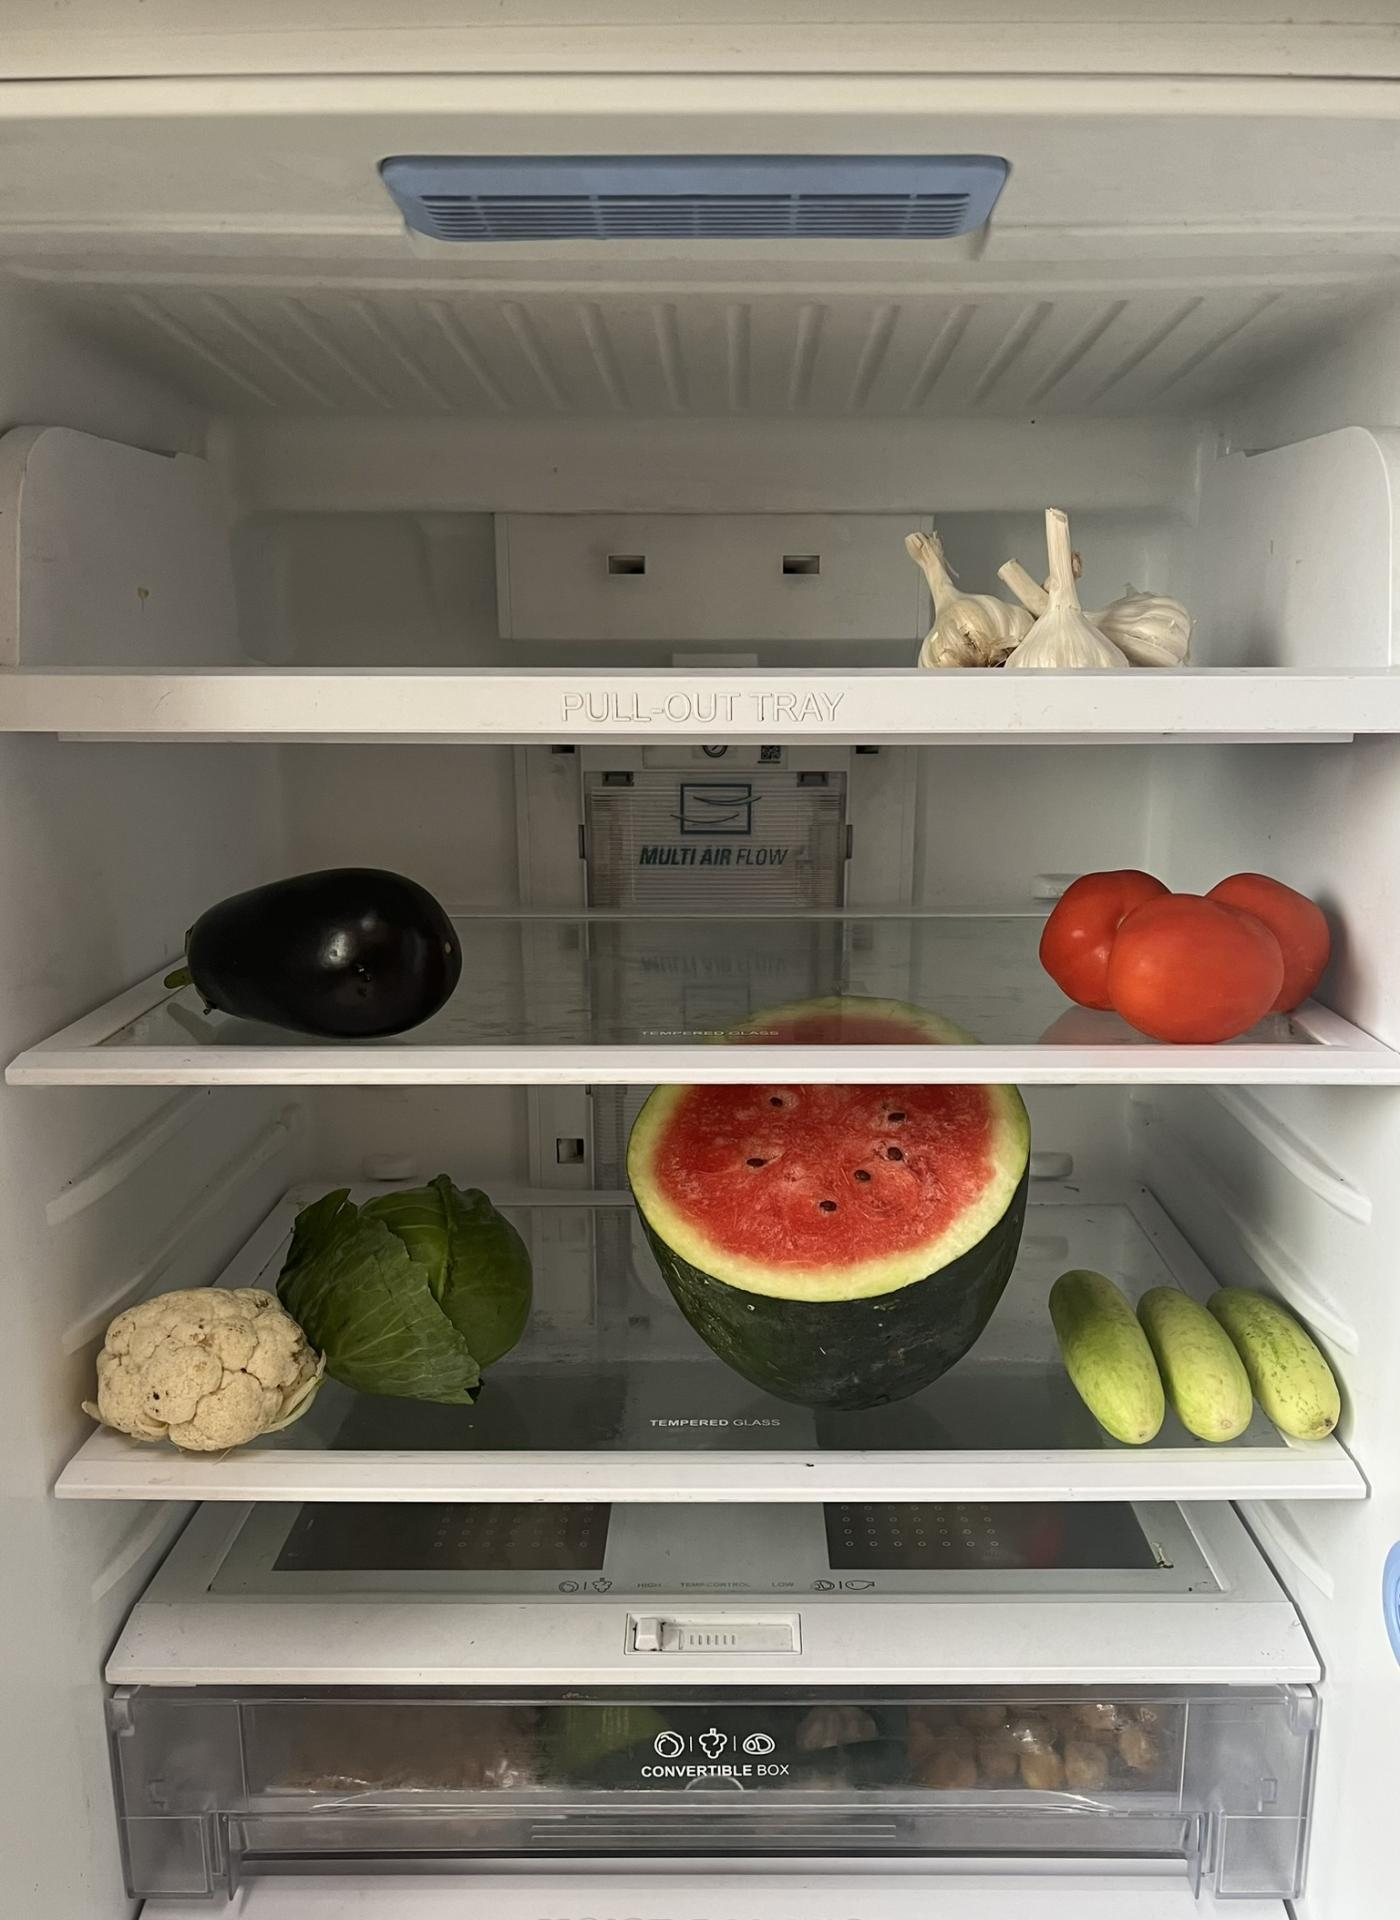cabbage: (267, 1166, 559, 1403)
cauliflower: (79, 1280, 334, 1450)
cucumber: (1048, 1257, 1355, 1453)
garlic: (899, 513, 1197, 669)
tomato: (1033, 847, 1346, 1049)
watermelon: (635, 994, 1042, 1403)
